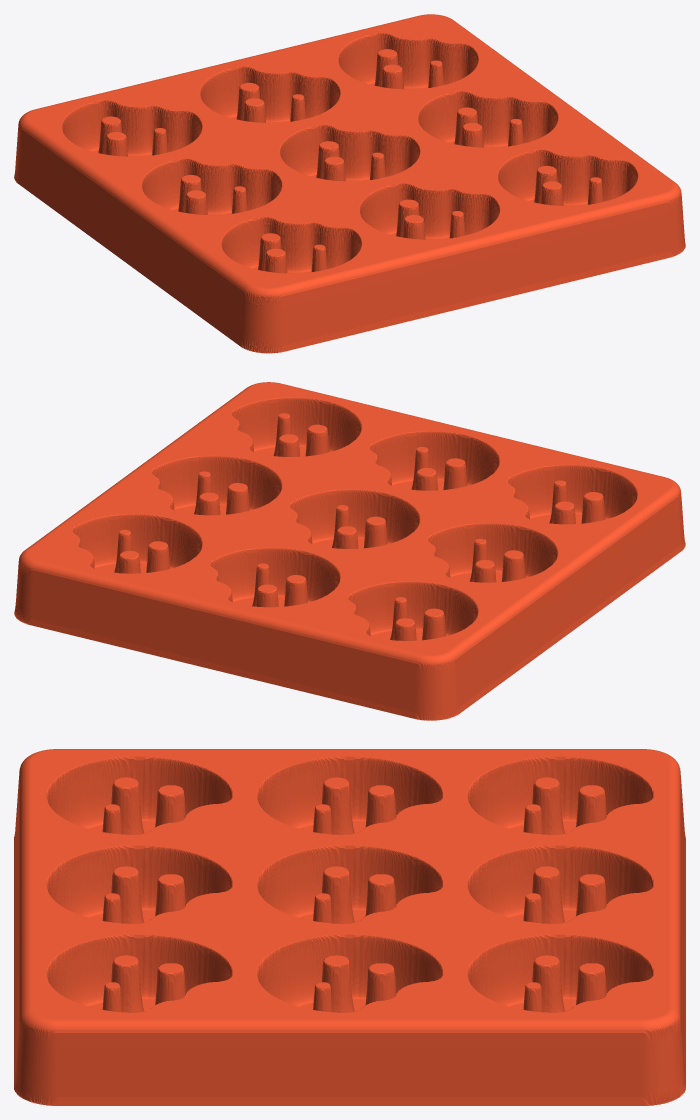
The model's file is mold.glb.
3 renders of one model, top to bottom at view 1: azimuth 30°, elevation 25°; view 2: azimuth 150°, elevation 25°; view 3: azimuth 270°, elevation 25°, orthographic. The views are drawn at different scales.
Parts seen in each view (by area): view 1: geometry_0; view 2: geometry_0; view 3: geometry_0.
Boxes of the visible parts, x1=… form: geometry_0: x1=14, y1=14, x2=685, y2=353; geometry_0: x1=14, y1=382, x2=685, y2=720; geometry_0: x1=14, y1=749, x2=685, y2=1105.
Bounding box in the file's own units: 0.1402 × 0.0182 × 0.1402.
